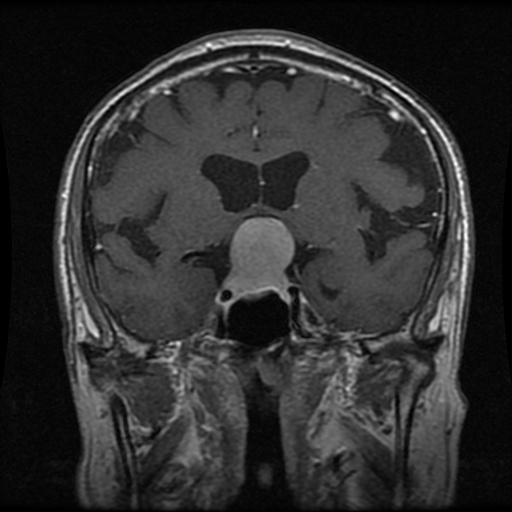pituitary: (223, 216, 294, 298)
